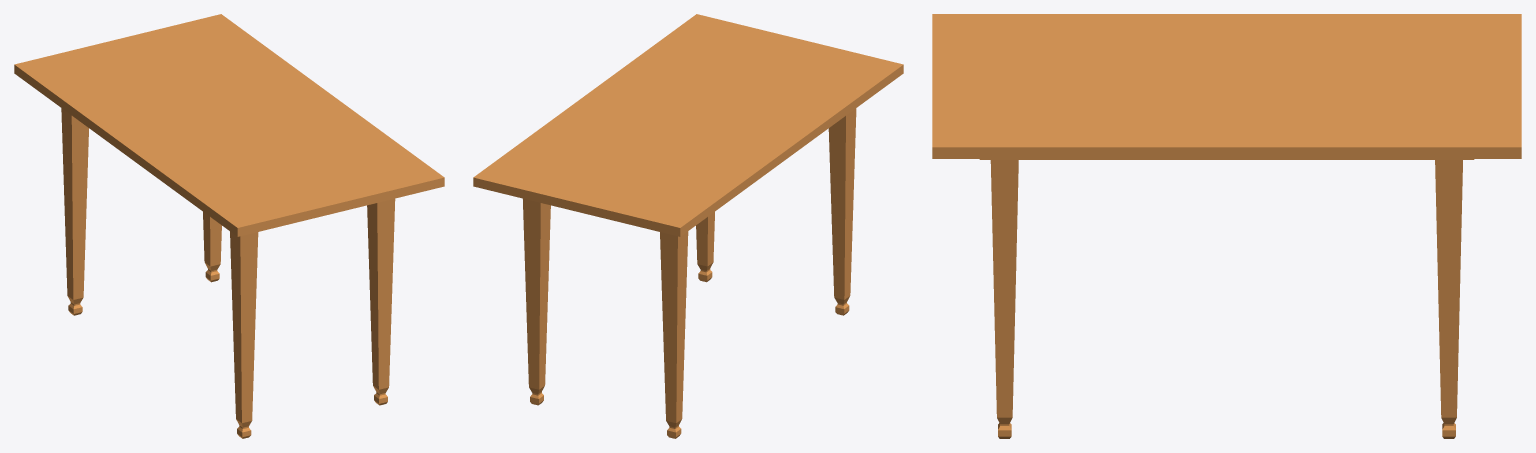
The model's file is dining table.fbx.
3 renders of one model, left to right at view 1: azimuth 30°, elevation 25°; view 2: azimuth 150°, elevation 25°; view 3: azimuth 270°, elevation 25°, orthographic. The views are drawn at different scales.
Parts seen in each view (by area): view 1: table top, legs; view 2: table top, legs; view 3: table top, legs.
Boxes of the visible parts, left/top/right/bottom form: table top: left=14, top=14, right=444, bottom=236; legs: left=61, top=108, right=395, bottom=438; table top: left=473, top=14, right=903, bottom=236; legs: left=523, top=108, right=856, bottom=438; table top: left=932, top=14, right=1521, bottom=158; legs: left=990, top=160, right=1462, bottom=438.
Size of the model in its own units: 261 by 286 by 488.
